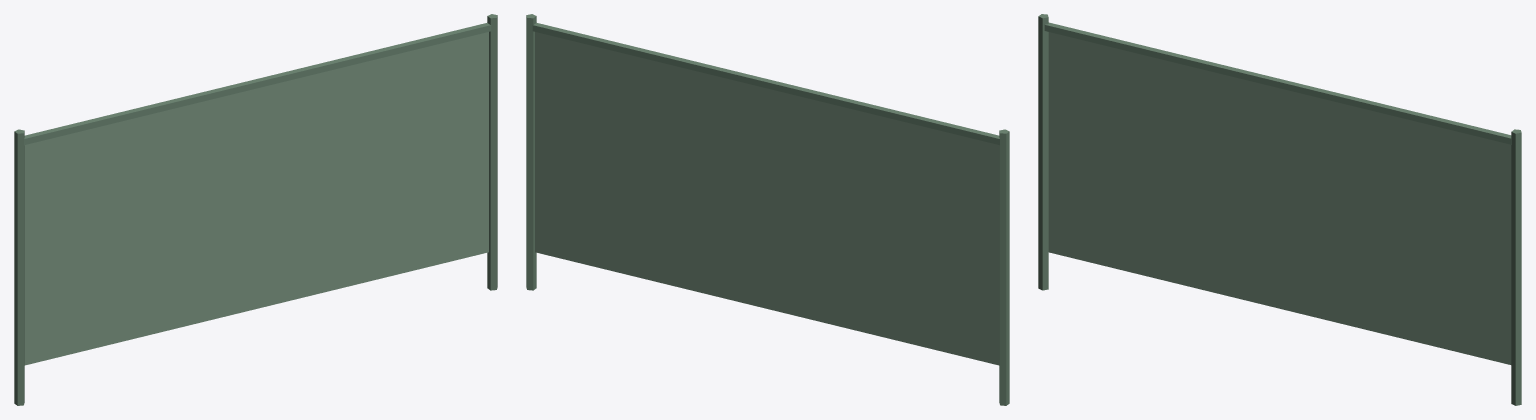
Rendered from fence.glb.
3 views of the same model, side by side, from view 1: azimuth 30°, elevation 25°; view 2: azimuth 150°, elevation 25°; view 3: azimuth 330°, elevation 25° (orthographic).
Parts seen in each view (by area): view 1: fence; view 2: fence; view 3: fence.
Part boxes in pixels (x1,y1,x2,y2): fence: (14,14,497,405); fence: (526,14,1009,405); fence: (1038,14,1521,405).
Size of the model in its own units: 4.07 by 2.2 by 0.0761.
